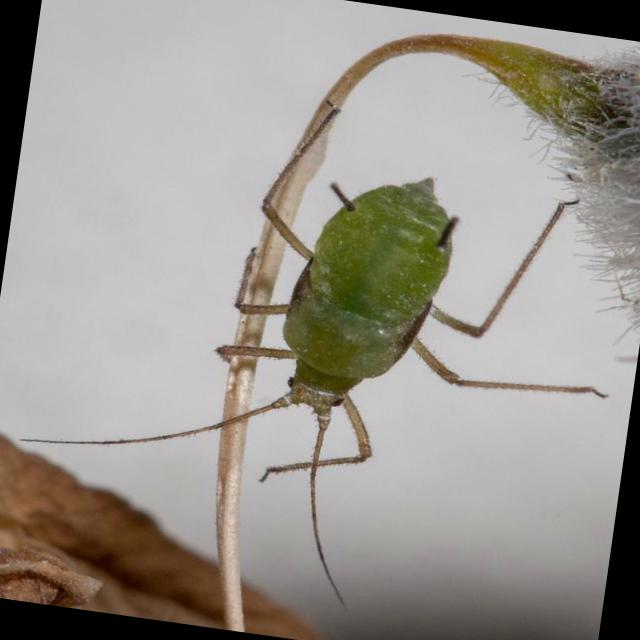Aphids: (108, 95, 603, 567)
